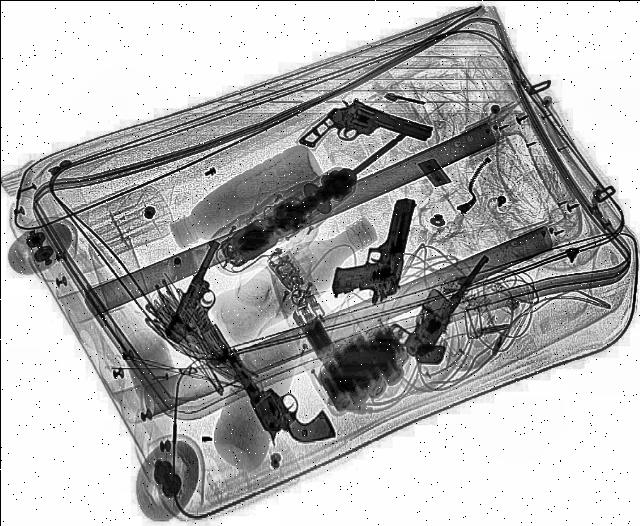Gun: (206, 308, 338, 454), (158, 238, 282, 366), (374, 239, 491, 361), (296, 88, 439, 178), (329, 192, 416, 306)
